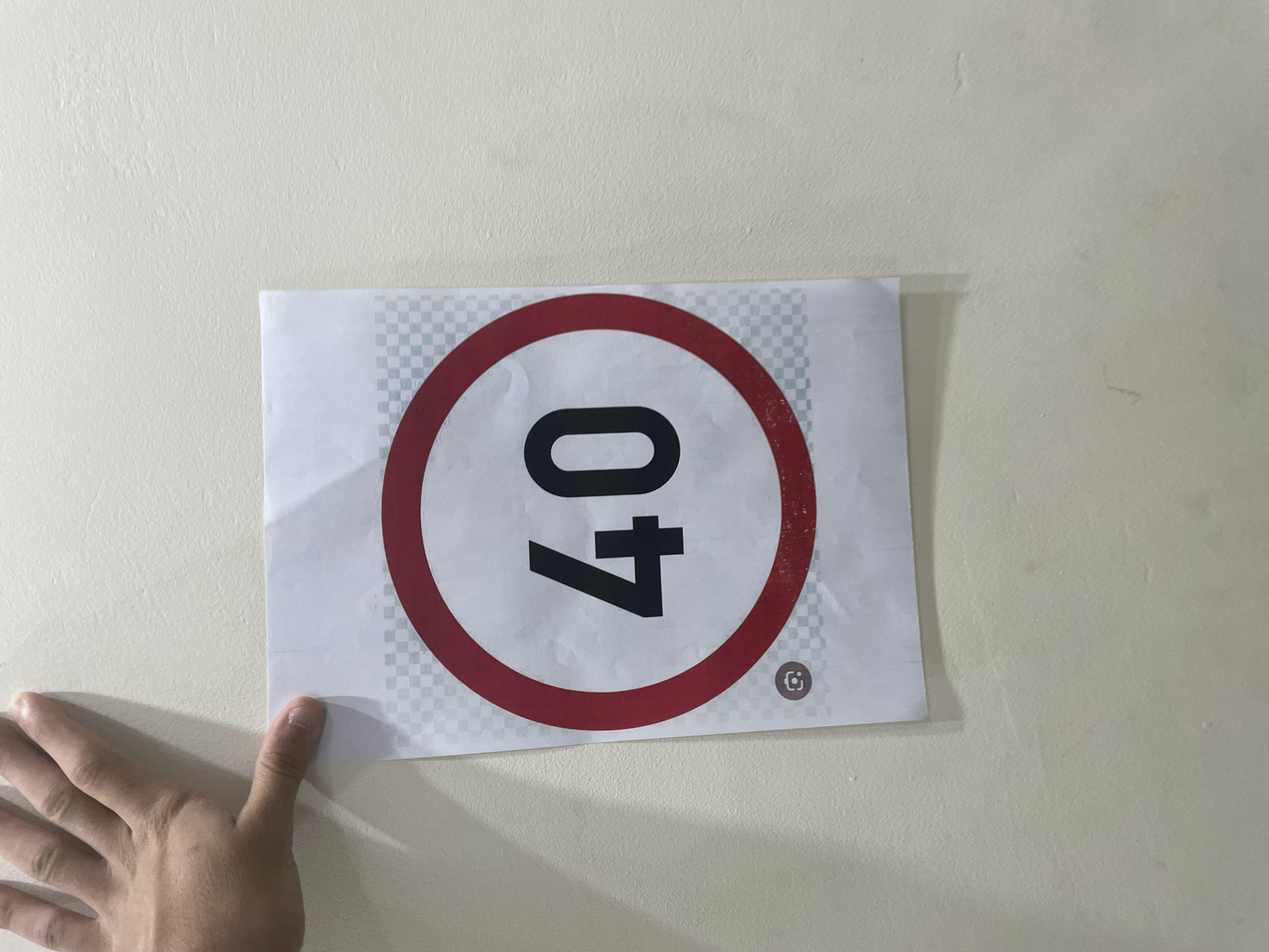40-Speed: (282, 286, 888, 617)
